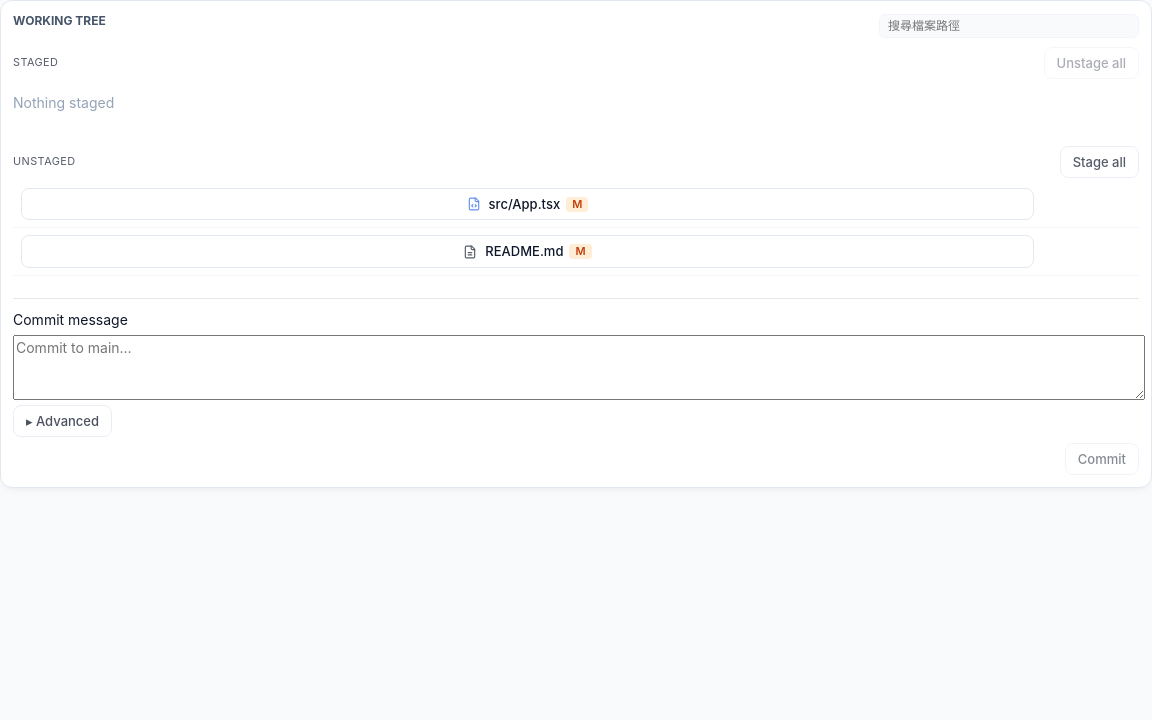
WorkingTreePanel filtering › shows an empty-state hint when no file matches
Type "zzz" into the field named "Search files". click: (1009, 26)
box: [879, 14, 1139, 38]
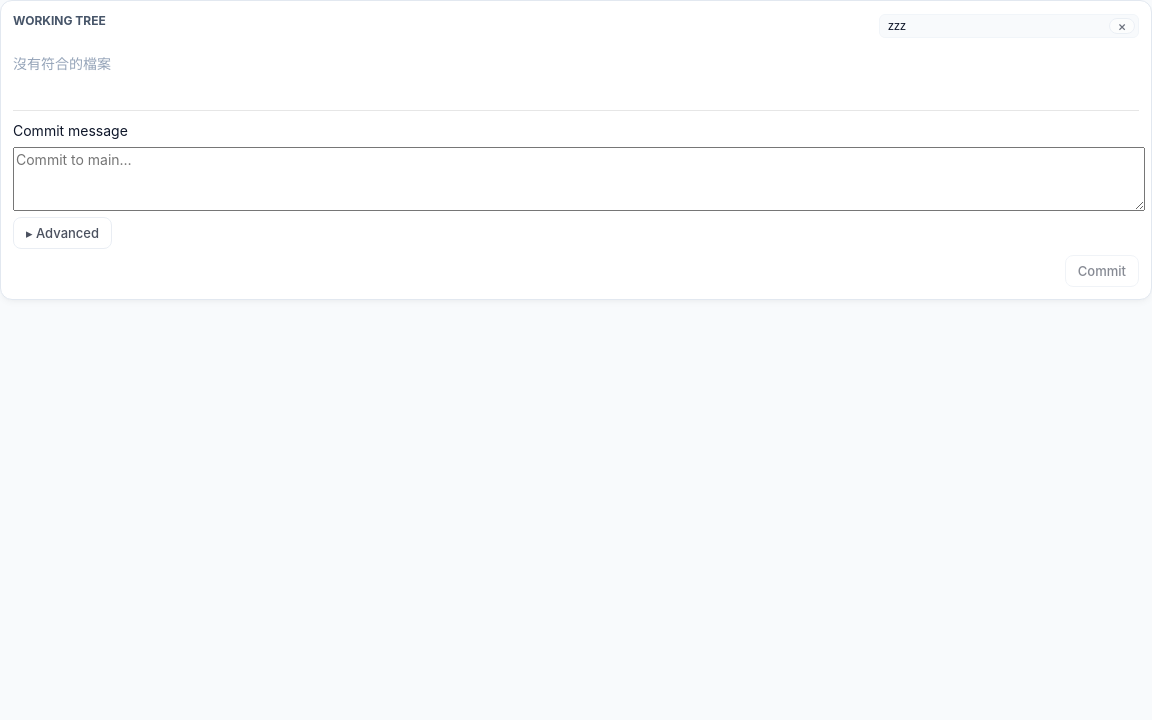
Now the text "沒有符合的檔案" is shown, box [13, 55, 111, 72]
